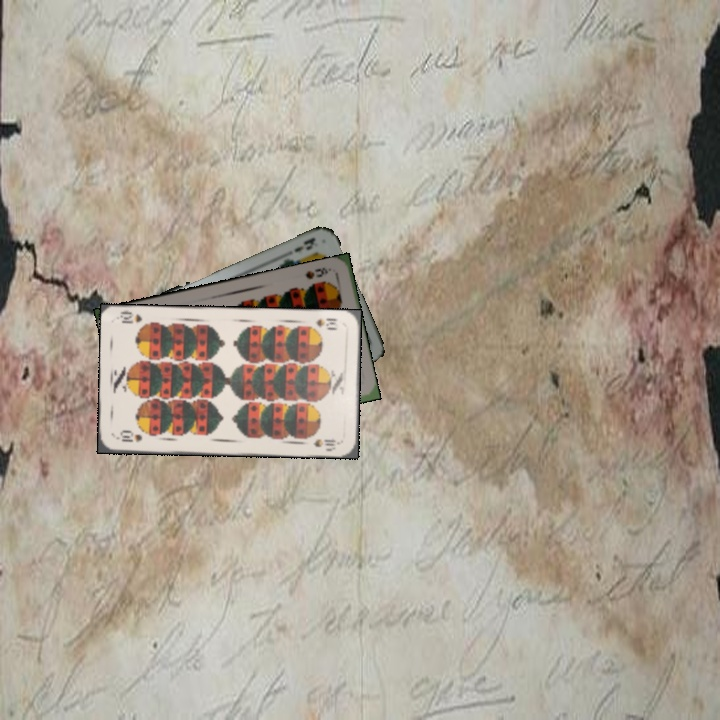EK: (290, 233, 318, 255)
S10: (311, 314, 340, 332), (113, 429, 144, 445)
S8: (301, 263, 334, 282)
